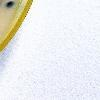Blue: (3, 0, 17, 9)
